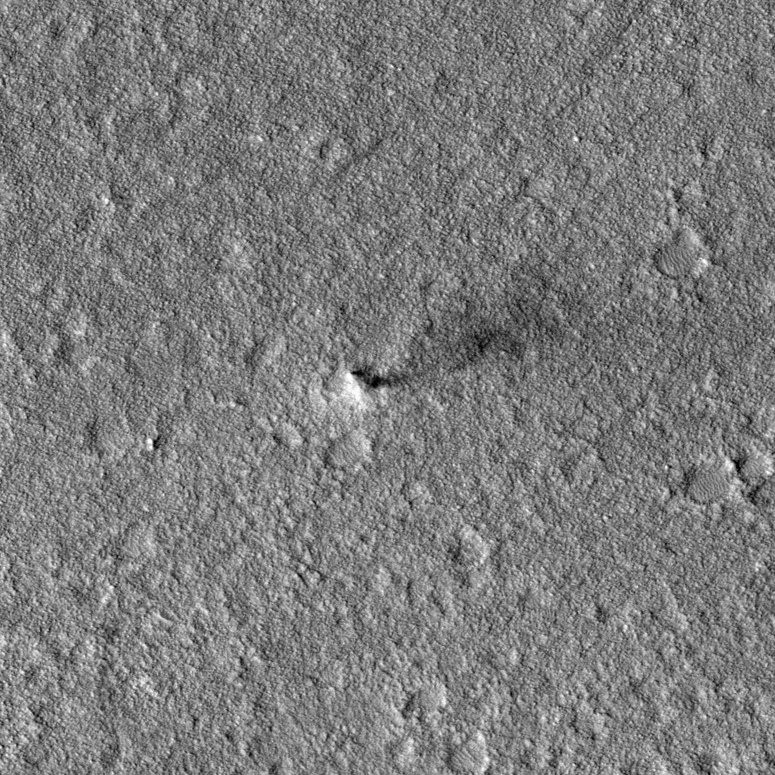dust_devil: (338, 310, 528, 412)
